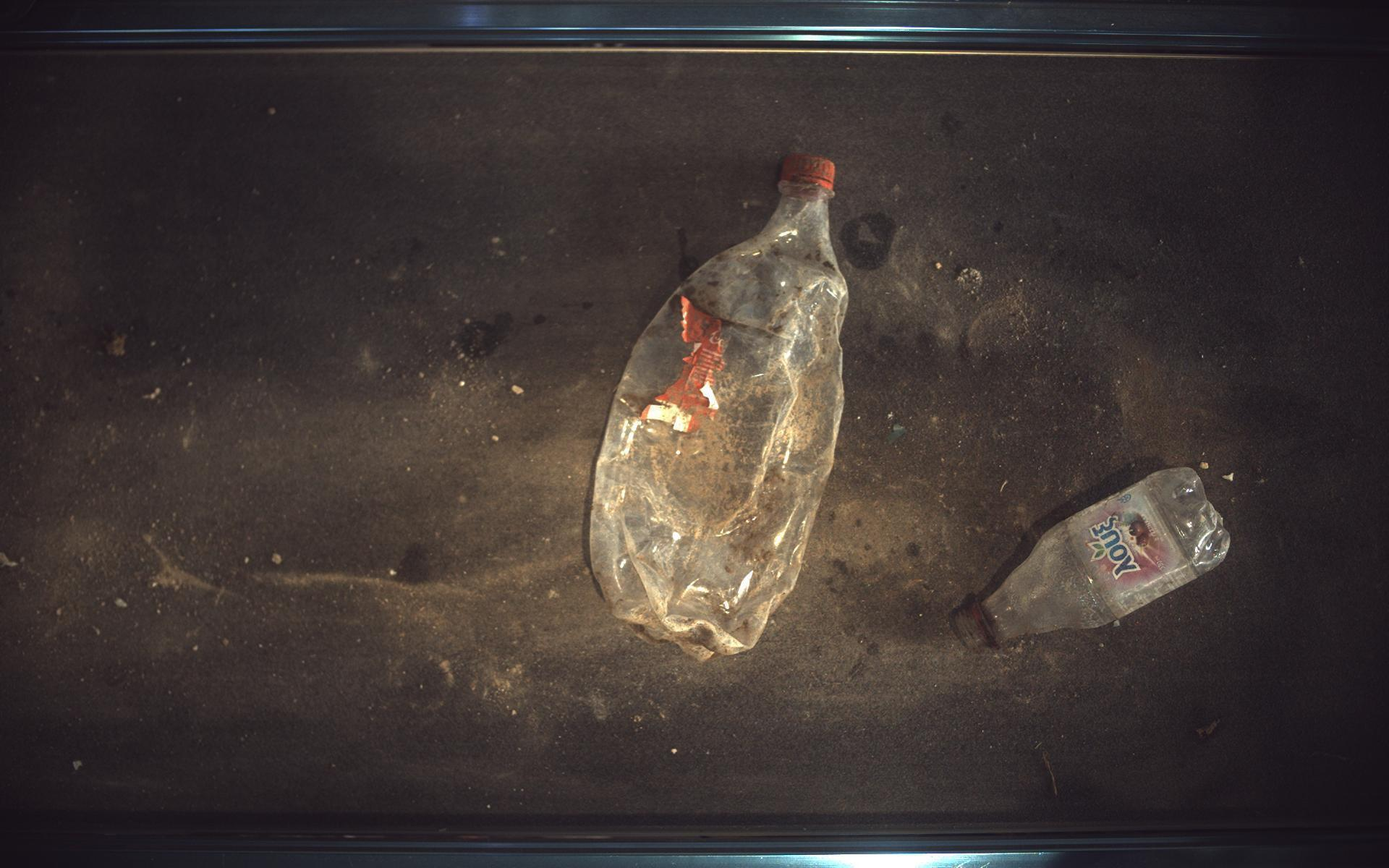general_w: (590, 153, 849, 661), (953, 467, 1233, 650)
